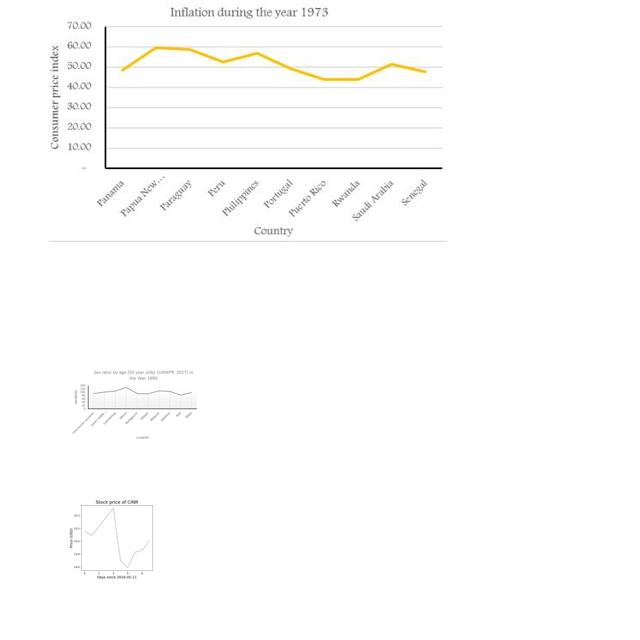Graph: (49, 2, 447, 242), (59, 495, 172, 580), (71, 367, 199, 441)
